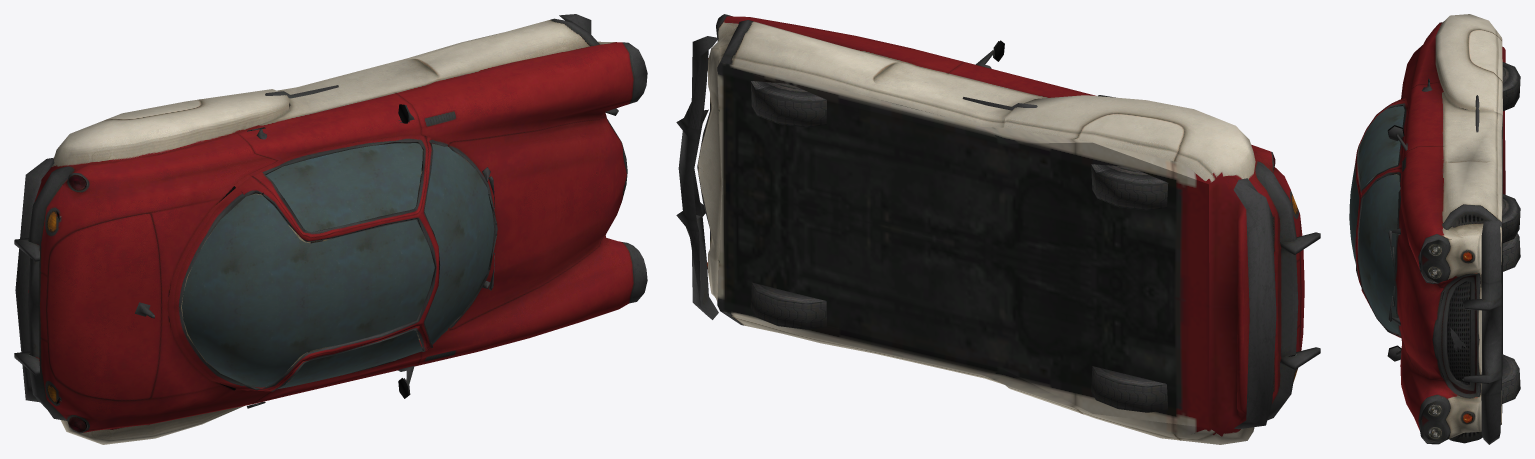
File: veh_t6_nuketown_2020_car02_clean_LOD2.obj
3 views of the same model, side by side, from view 1: azimuth 30°, elevation 25°; view 2: azimuth 150°, elevation 25°; view 3: azimuth 270°, elevation 25° (orthographic). The views are drawn at different scales.
Visible parts, largest first — view 1: mtl_nt_2020_car_02_exterior, mtl_nt_2020_car_01_glass_out, mtl_nt_2020_car_01_glass_in; view 2: mtl_nt_2020_car_02_exterior; view 3: mtl_nt_2020_car_02_exterior, mtl_nt_2020_car_01_glass_out, mtl_nt_2020_car_01_glass_in.
Part boxes in pixels (x1=…): mtl_nt_2020_car_02_exterior: x1=14, y1=14, x2=647, y2=444; mtl_nt_2020_car_01_glass_out: x1=182, y1=143, x2=494, y2=389; mtl_nt_2020_car_01_glass_in: x1=182, y1=144, x2=493, y2=387; mtl_nt_2020_car_02_exterior: x1=676, y1=14, x2=1320, y2=444; mtl_nt_2020_car_02_exterior: x1=1355, y1=14, x2=1520, y2=444; mtl_nt_2020_car_01_glass_out: x1=1349, y1=106, x2=1404, y2=334; mtl_nt_2020_car_01_glass_in: x1=1350, y1=106, x2=1403, y2=327.
Size of the model in its own units: 504 by 246 by 154.
